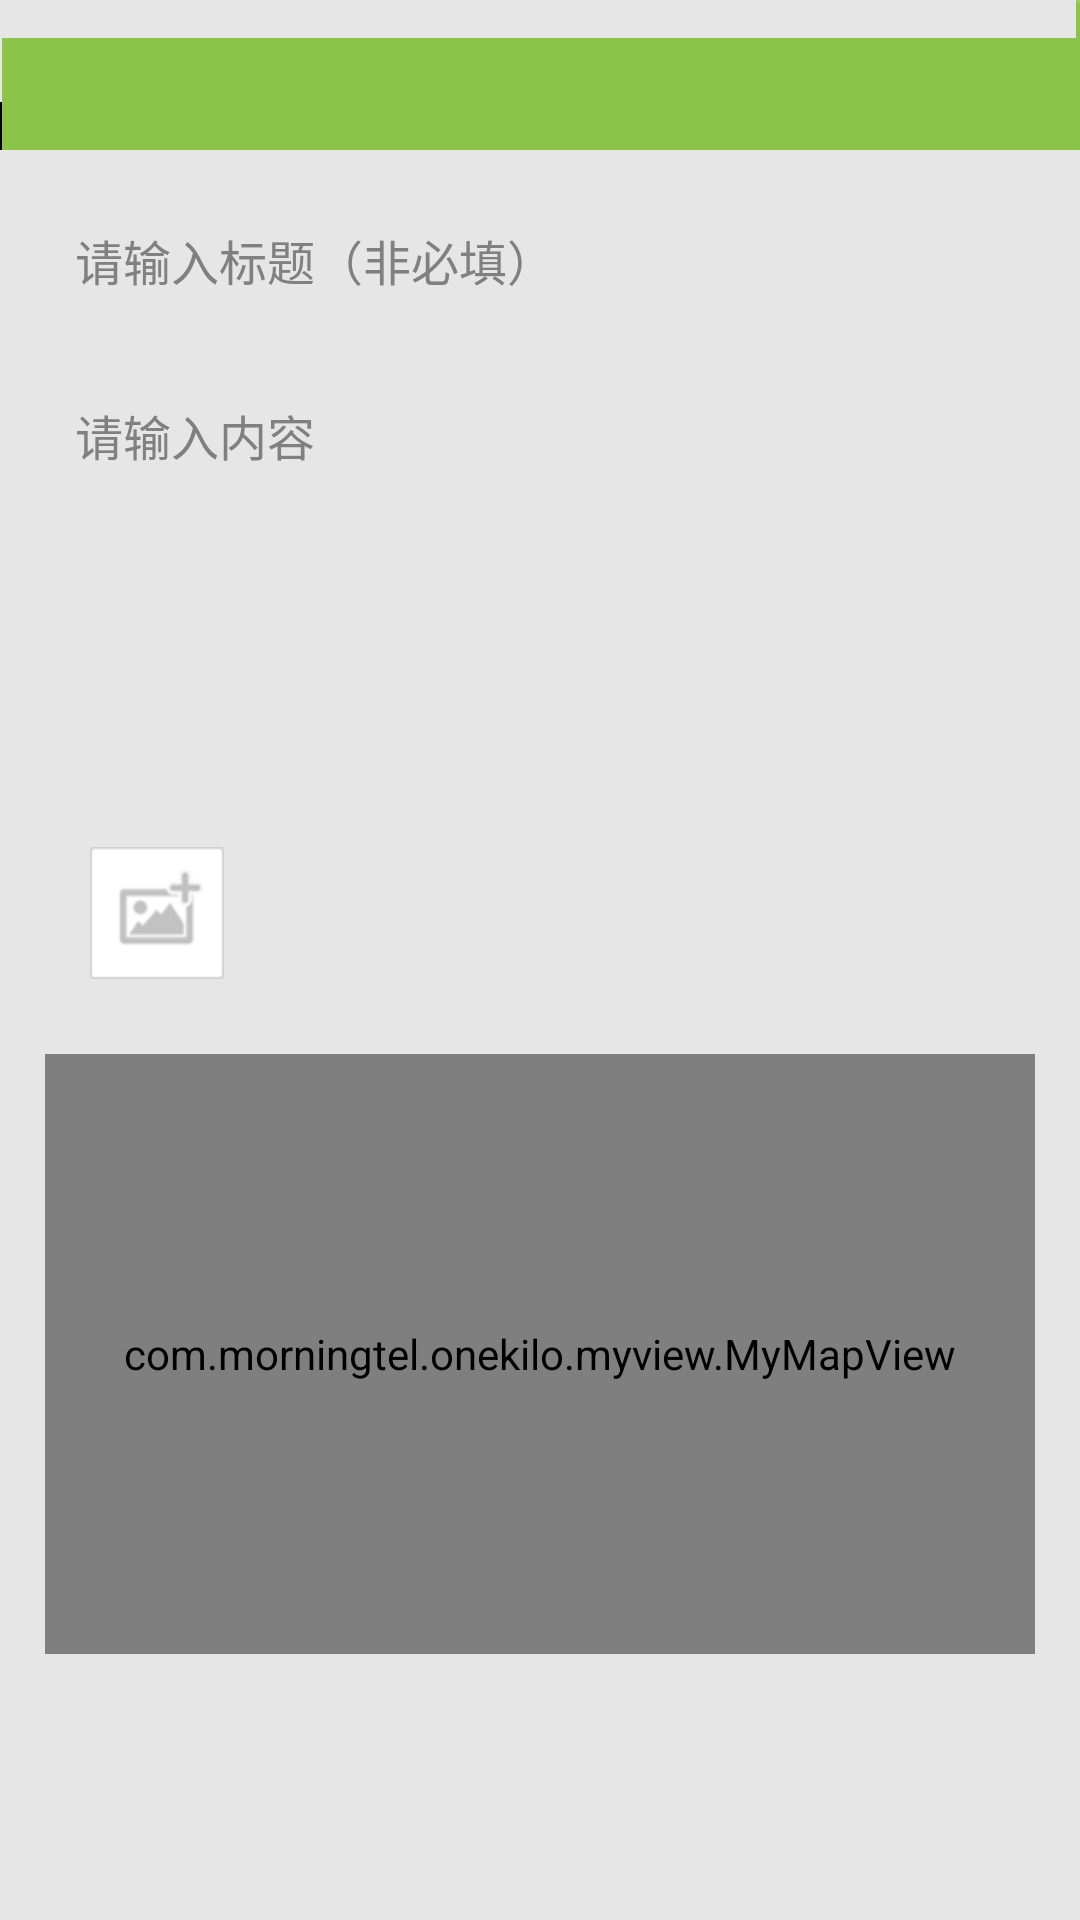

Named icons in this screenshot (1080px x 1920px) and their bounding boxes, (x1, y1, x2, y2):
fatie tianjiatupian: (90, 850, 224, 976)
